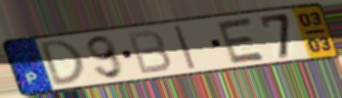7: (258, 12, 293, 60)
9: (84, 34, 126, 81)
B: (124, 28, 174, 76)
D: (39, 38, 89, 89)
E: (215, 15, 269, 66)
I: (171, 24, 199, 71)
